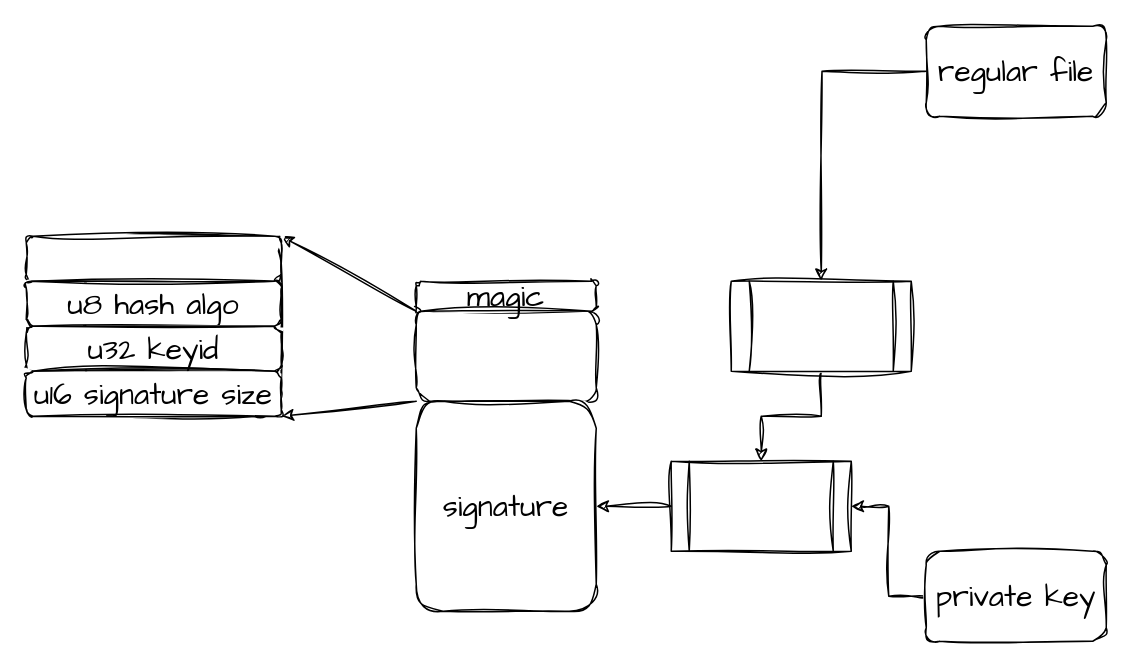
This 1133x668 diagram has some shape labels left out. Here are the shapes that lost their labels. From the top down, the centre of each, then its label:
[153,258]: u8 version
[820,325]: hash
[505,355]: header
[760,505]: digital sign
